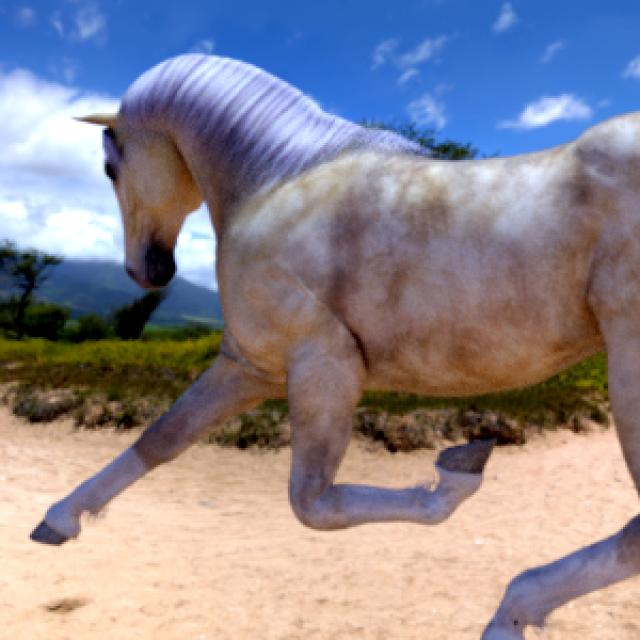horse: (31, 55, 640, 544)
